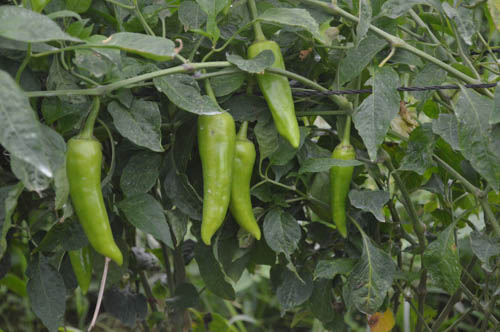ChiliPepper: (65, 139, 123, 262), (248, 45, 300, 146), (197, 113, 233, 244), (229, 141, 258, 239), (328, 150, 351, 239)
